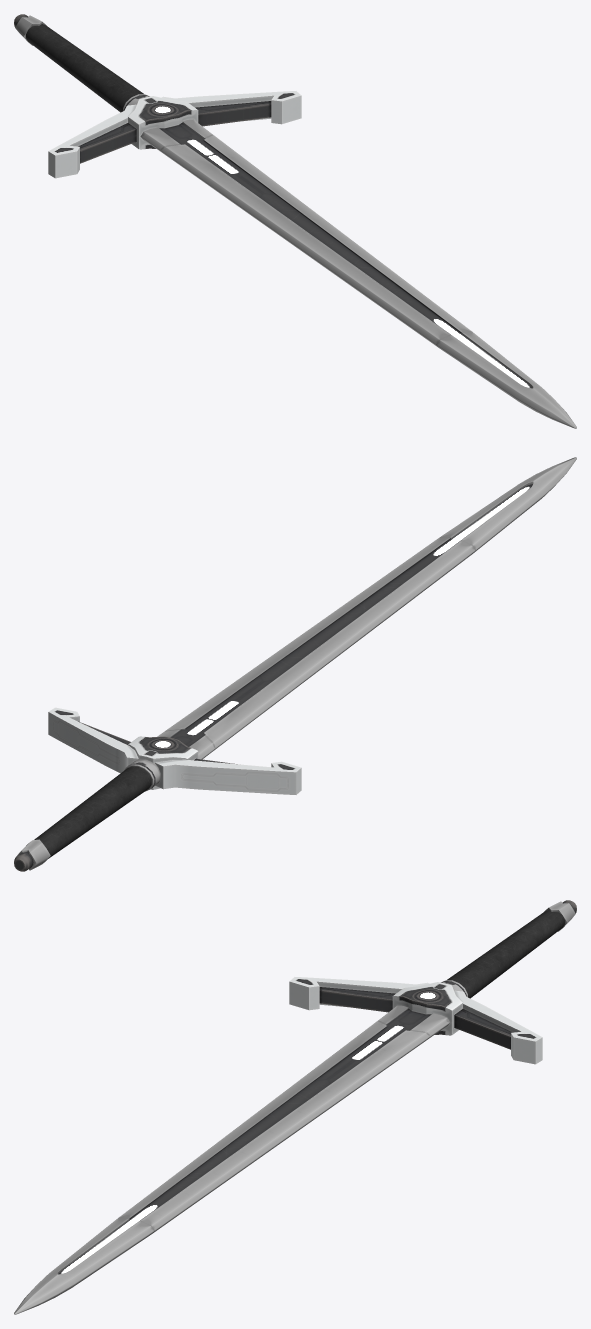
The model's file is MeleeSword02_1.FBX.
The picture shows the model from 3 angles, top to bottom: view 1: azimuth 30°, elevation 25°; view 2: azimuth 150°, elevation 25°; view 3: azimuth 330°, elevation 25°; orthographic projection.
Visible parts, largest first — view 1: MeleeSword02_1; view 2: MeleeSword02_1; view 3: MeleeSword02_1.
Boxes of the visible parts, x1,y1,x2,y2 form: MeleeSword02_1: (14, 14, 576, 428); MeleeSword02_1: (14, 457, 576, 871); MeleeSword02_1: (14, 900, 576, 1314).
Size of what is drawn, in the model's own units: 0.3169 by 0.0391 by 1.23.
